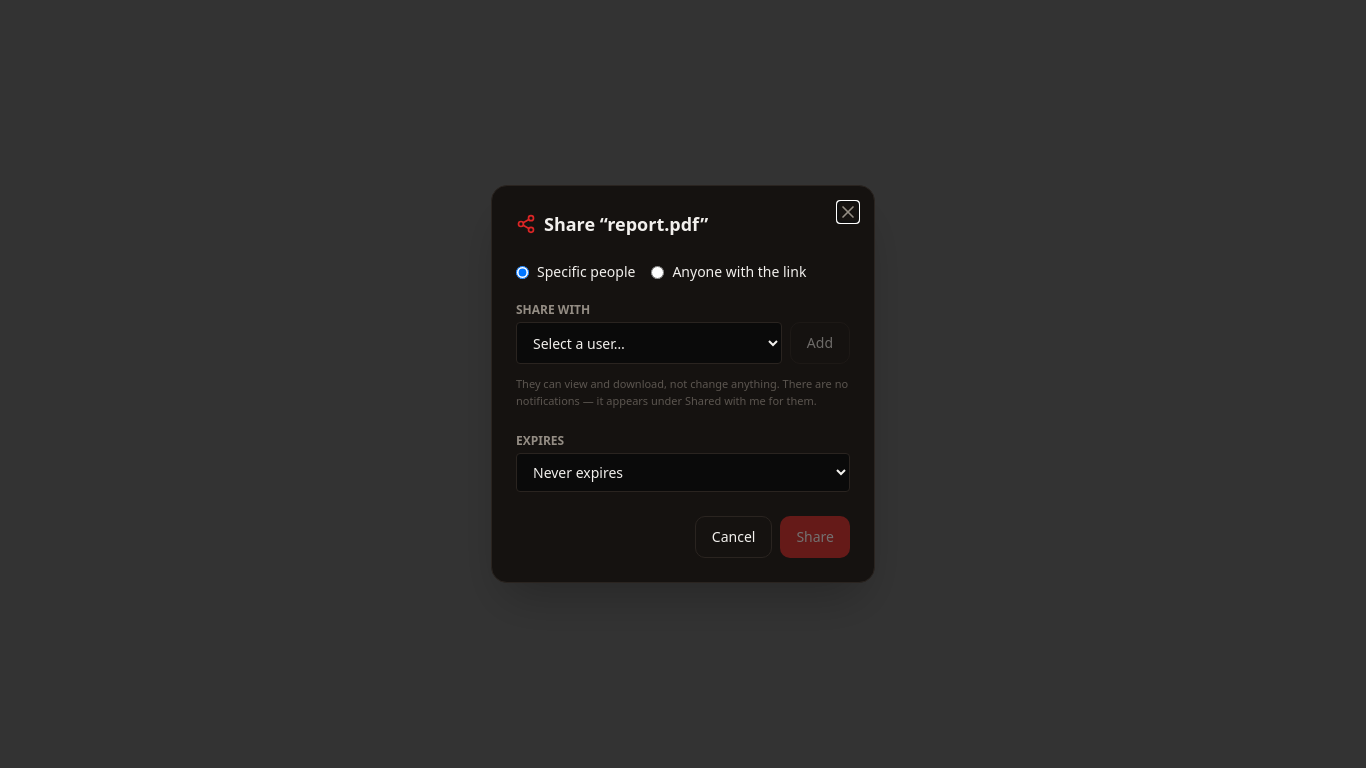
Scenario: ShareFileModal › switches to a link and shows it for copying
Click the radio button labelled "Anyone with the link". click: (658,272)
box: x1=651 y1=266 x2=664 y2=278
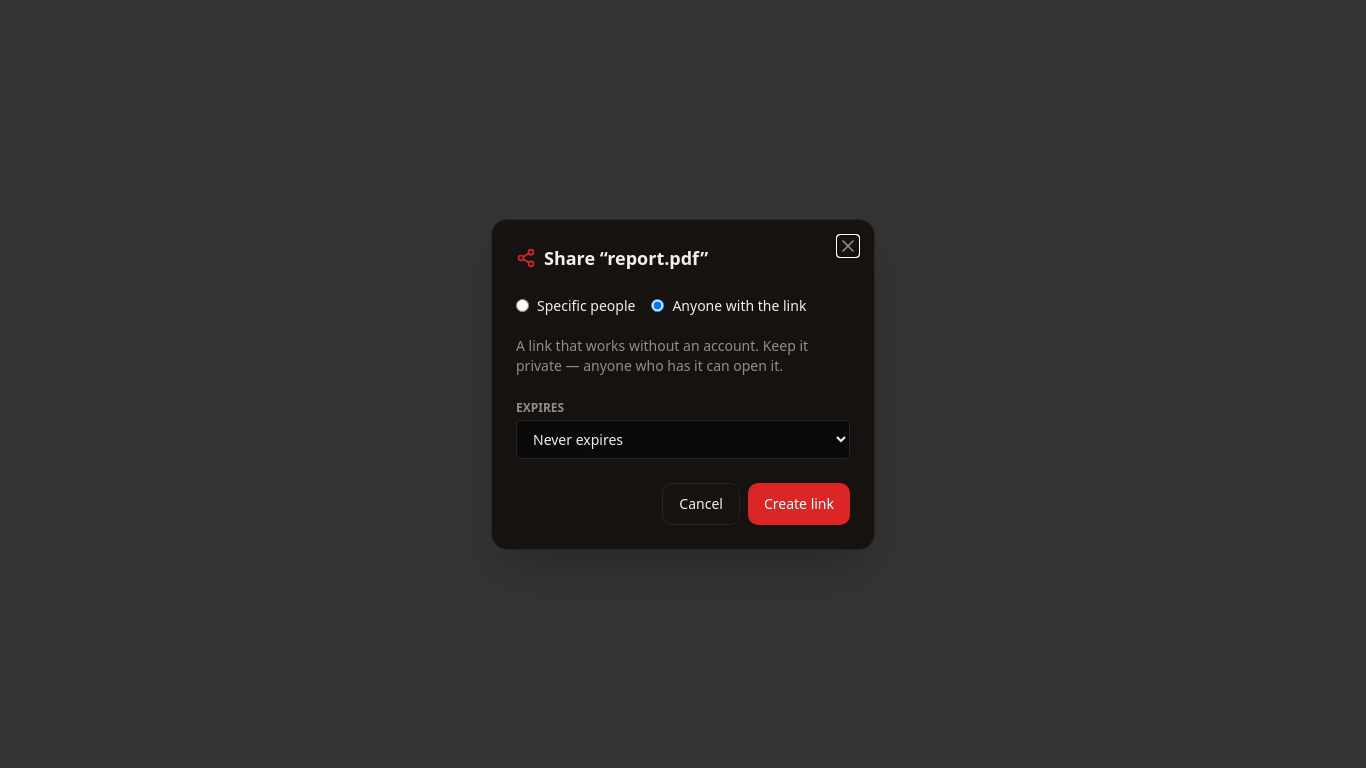
Click the button "Create link". click: (799,504)
box: x1=748 y1=482 x2=850 y2=524
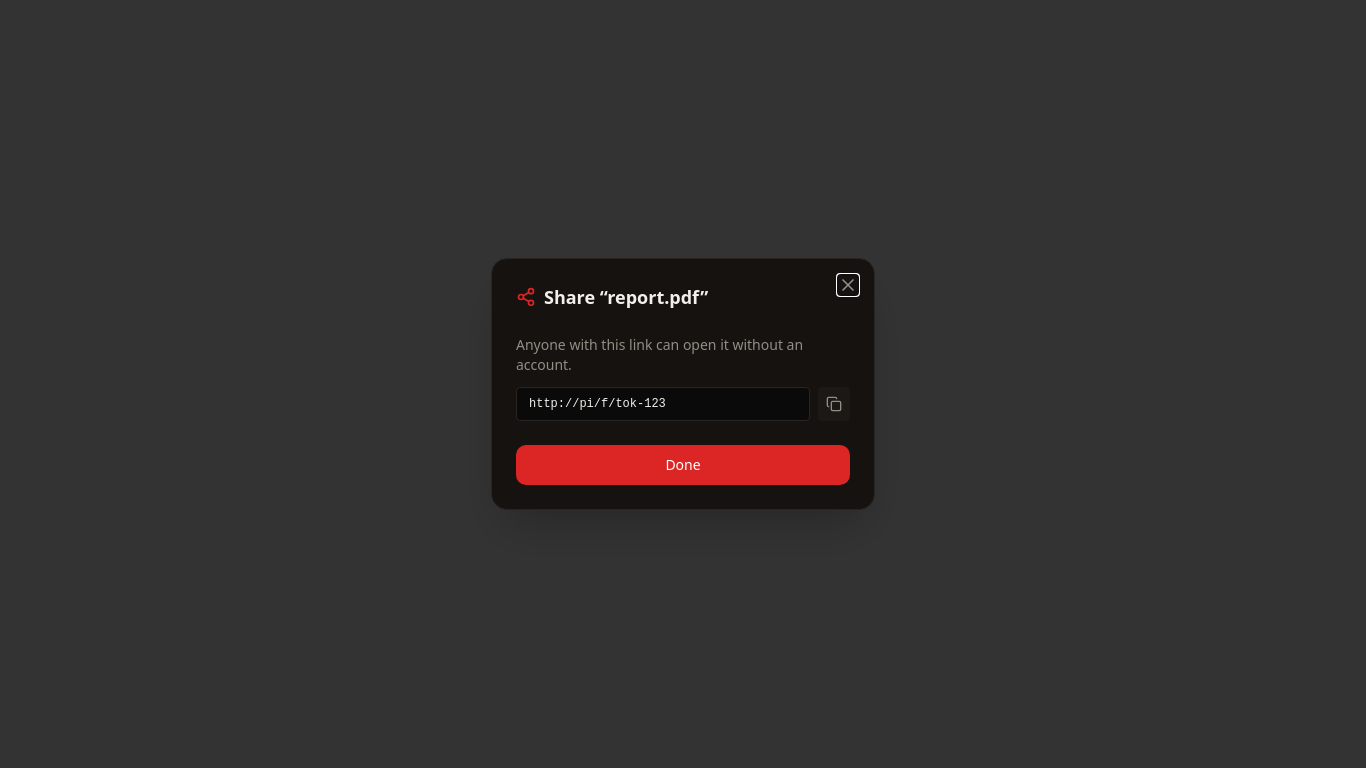
Check: the label labelled "Share with" is not shown
Check: the text "http://pi/f/tok-123" is shown, box x1=516 y1=387 x2=810 y2=421
